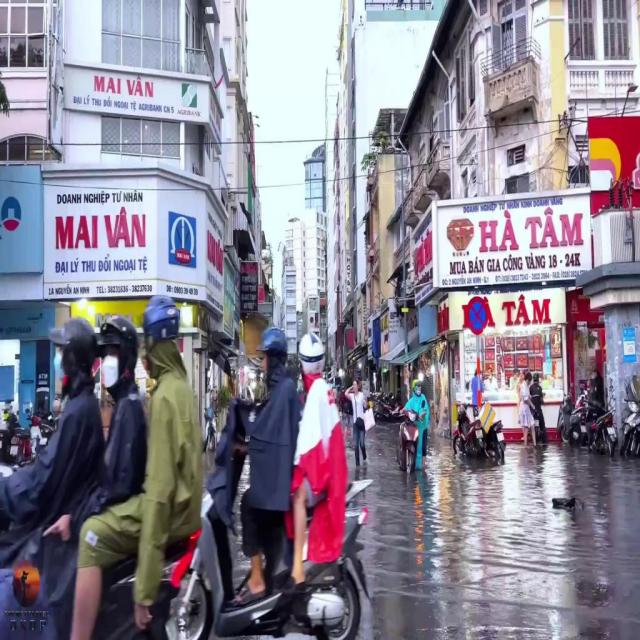cam_dung_xe_va_do_xe: (467, 294, 488, 333)
